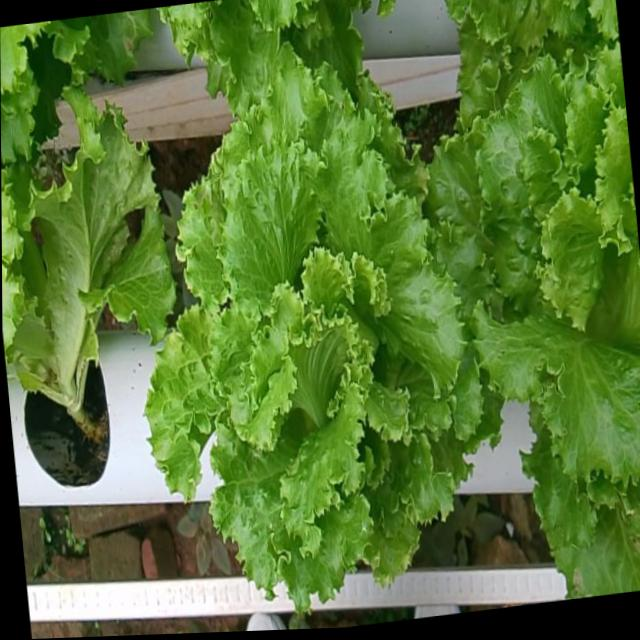Mature: (151, 69, 488, 611), (433, 60, 640, 495)
